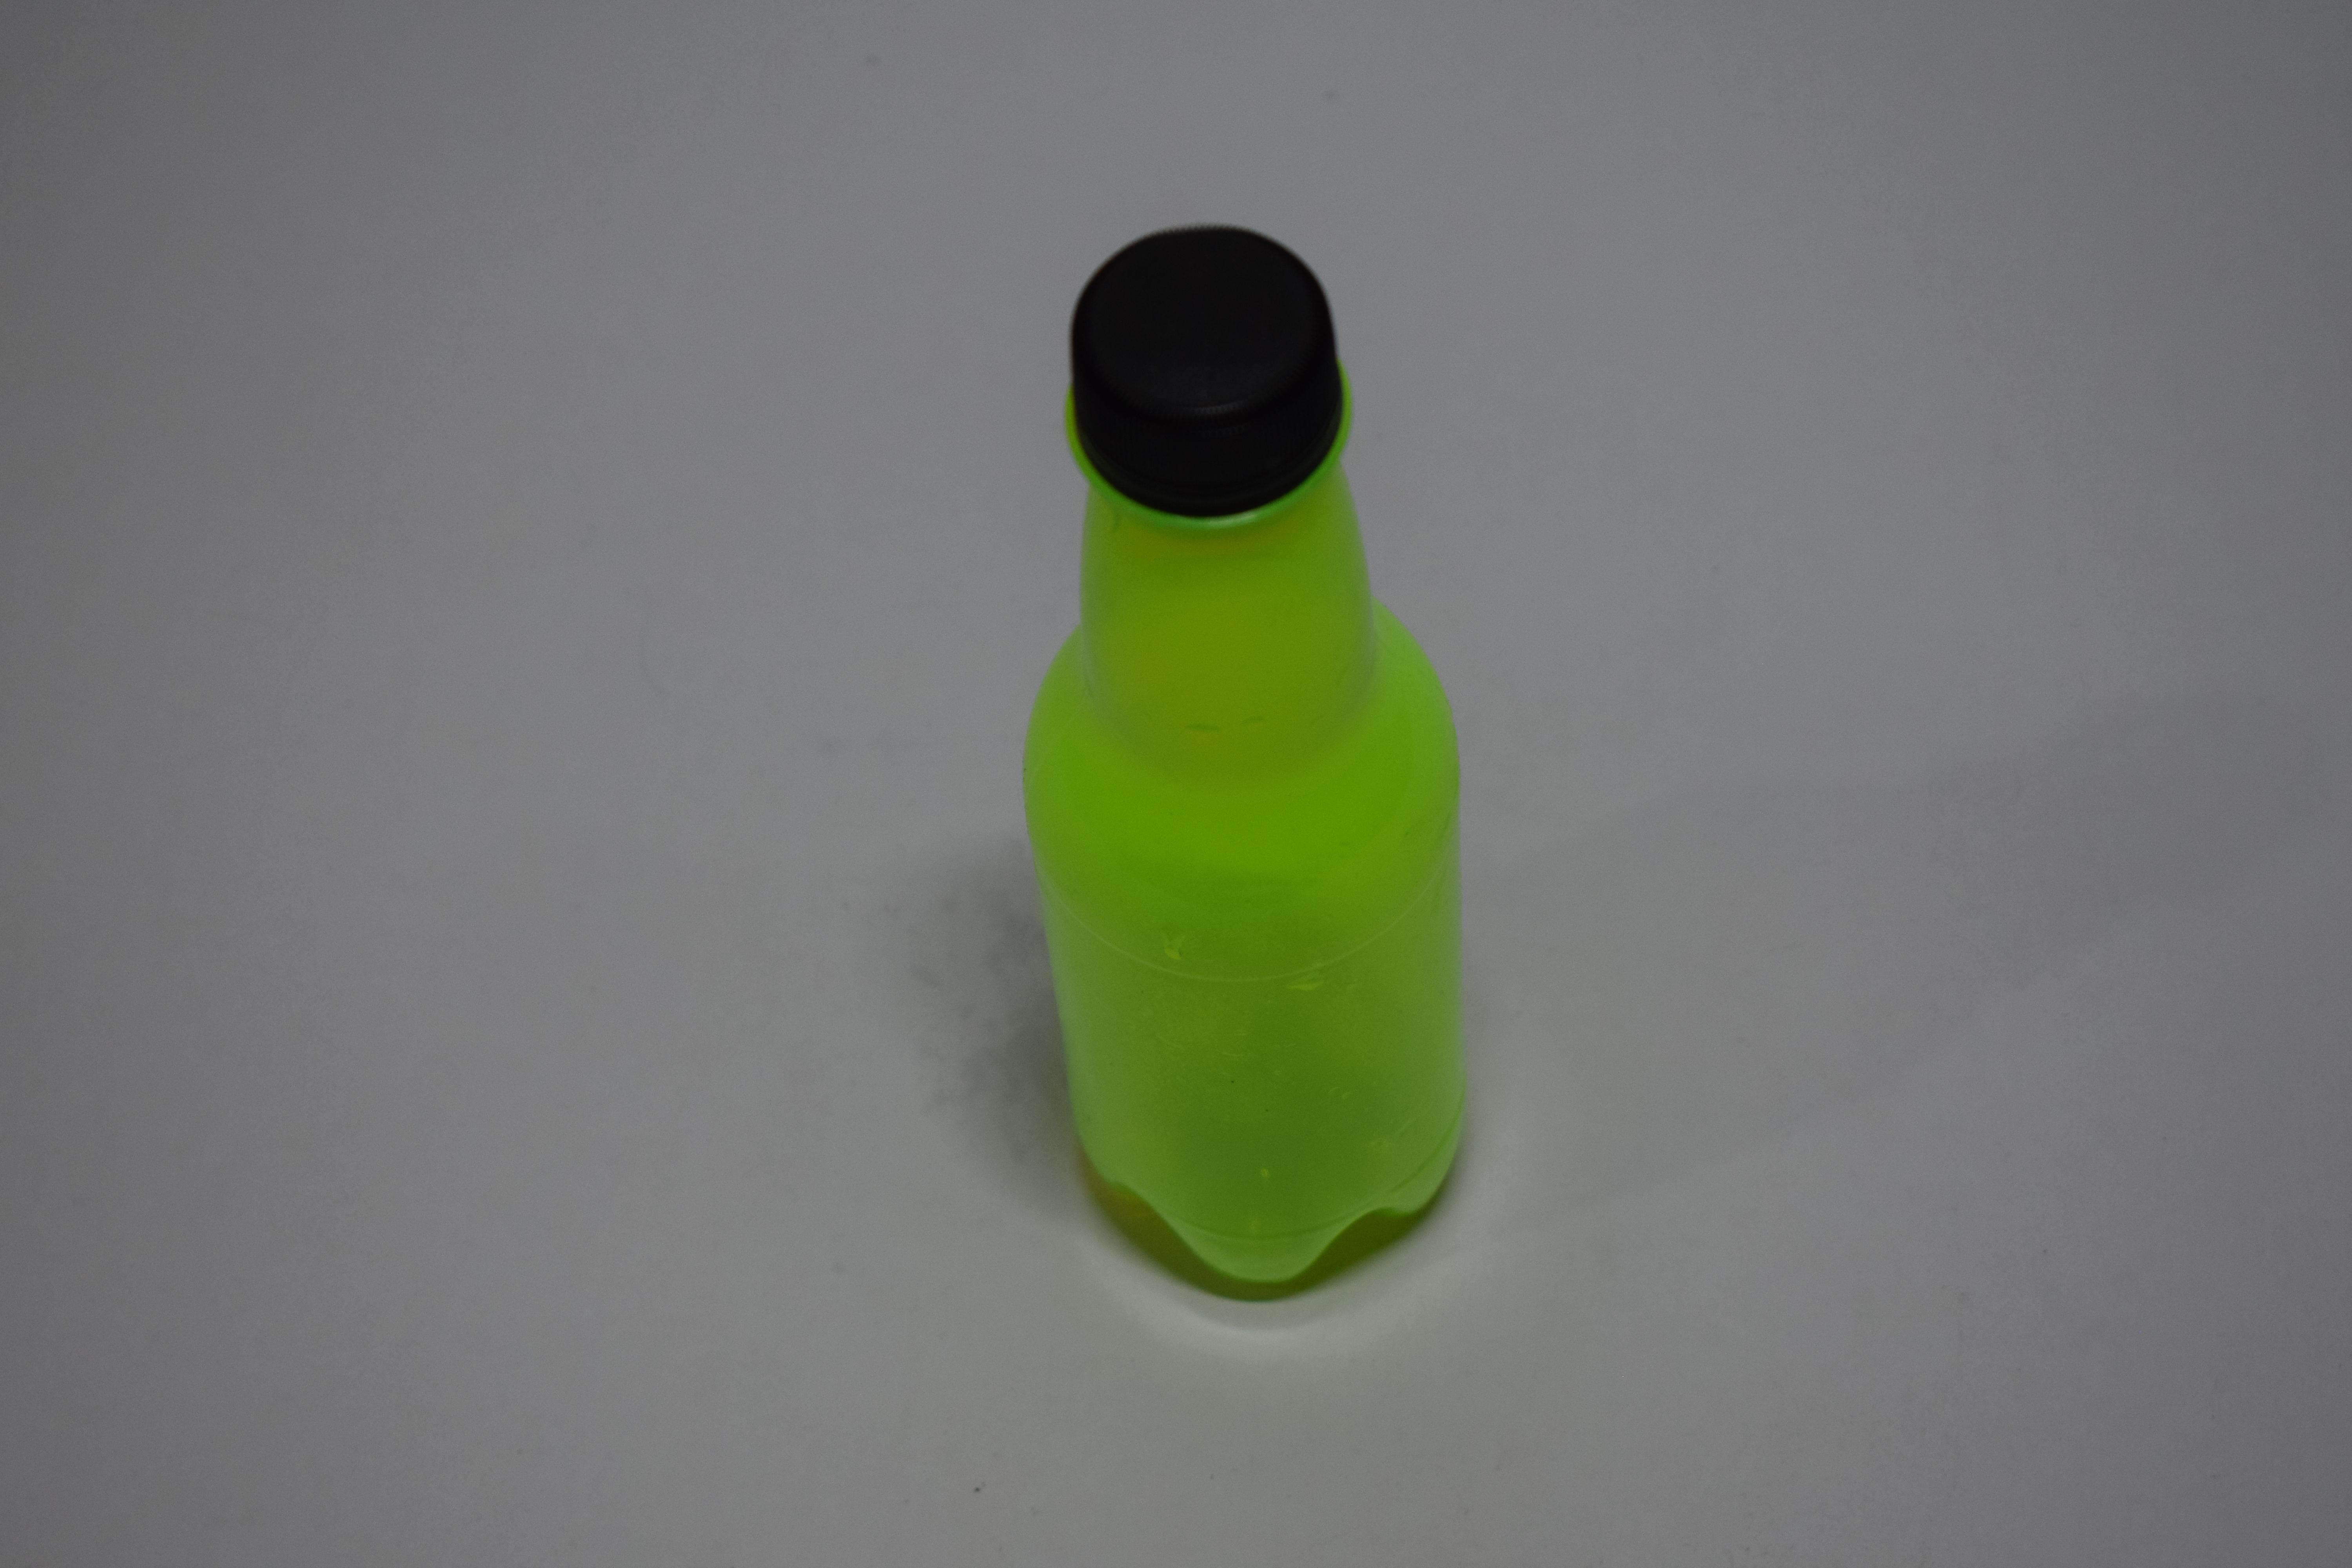bottle: (0, 215, 310, 1297)
